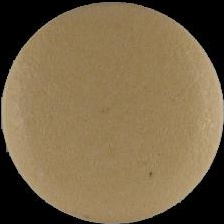63187-555: (0, 0, 224, 224)
